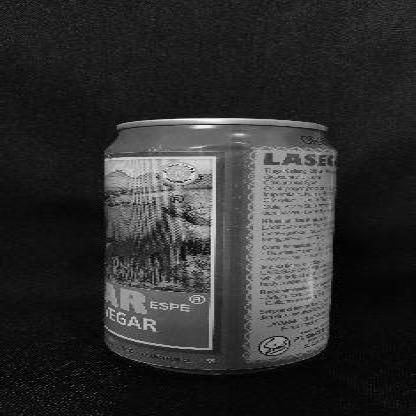alumunium_can: (104, 118, 340, 375)
